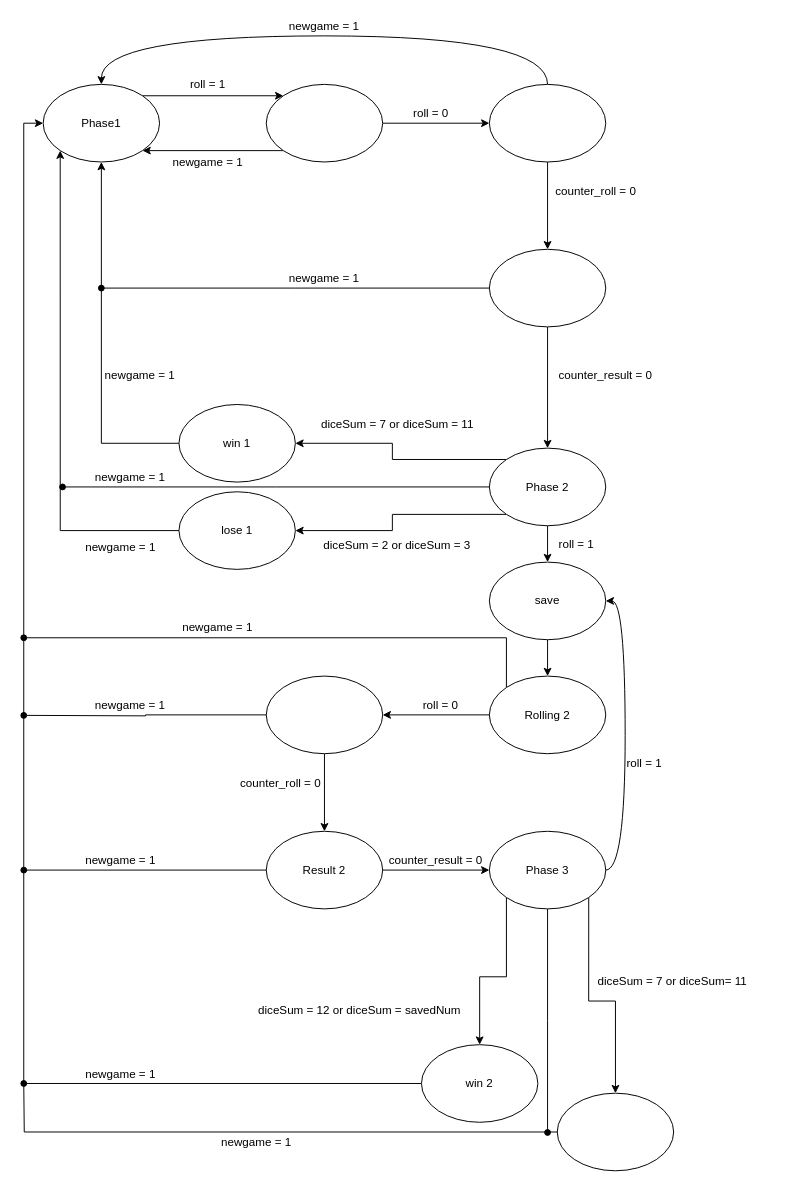
Image size: 788x1188. Some labels were removed from this diagram. The centre of each missing label's shape, as x and y in pixels:
lose 2: [615,1131]
Result 1: [547,287]
Rolling 1: [324,122]
Stop Rolling 1: [547,122]
Stop Rolling 2: [324,714]
